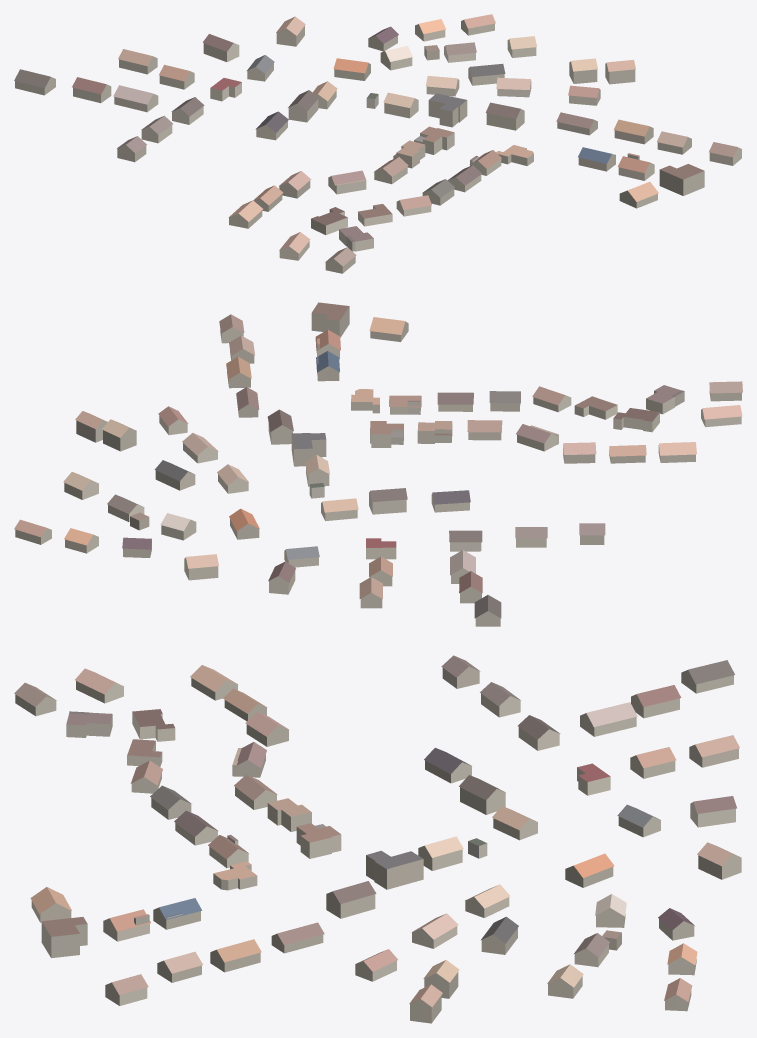
The picture shows the model from 3 angles, top to bottom: view 1: azimuth 30°, elevation 25°; view 2: azimuth 150°, elevation 25°; view 3: azimuth 270°, elevation 25°; orthographic projection. The views are drawn at different scales.
Parts seen in each view (by area): view 1: tuile; view 2: tuile; view 3: tuile.
Boxes of the visible parts, left/top/right/bottom form: tuile: left=14, top=14, right=741, bottom=273; tuile: left=14, top=302, right=742, bottom=626; tuile: left=14, top=655, right=741, bottom=1023.
Bounding box in the file's own units: 258 × 27.56 × 251.
